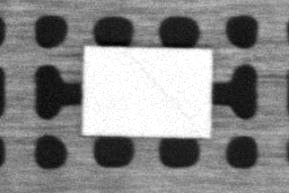DIE_CRACK: (128, 55, 196, 128)
